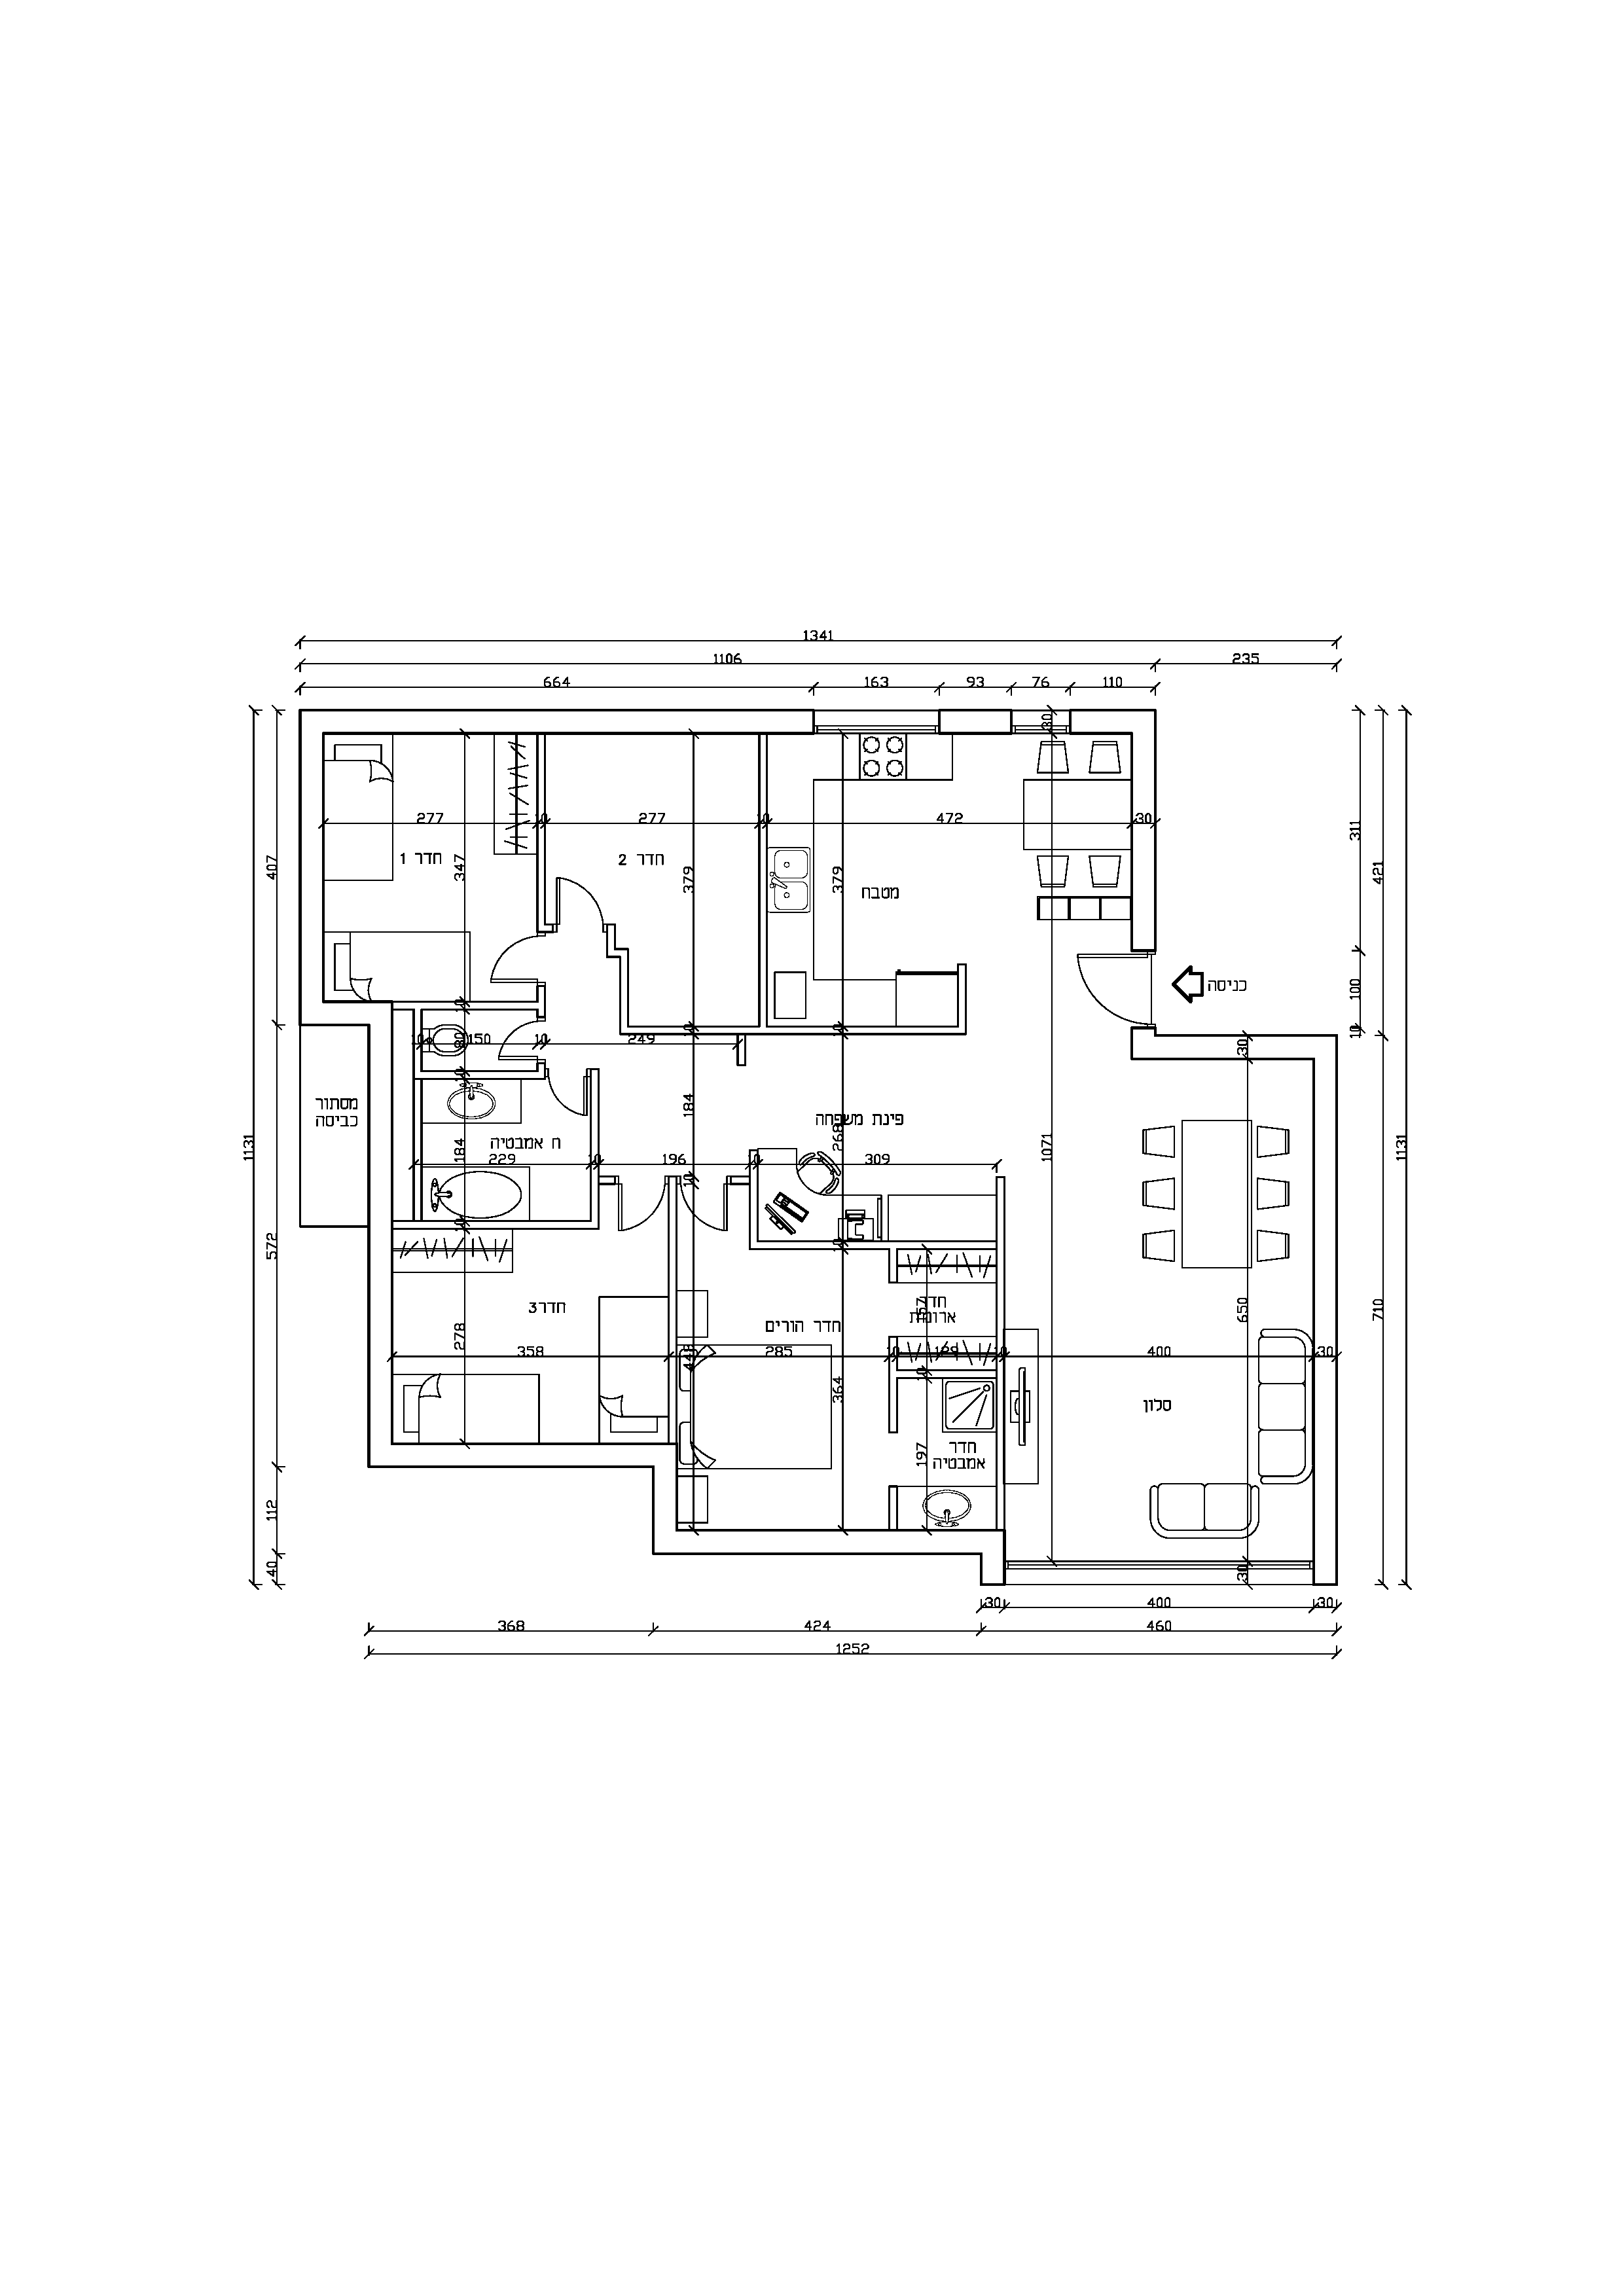door: (1074, 956, 1149, 1024), (605, 1179, 664, 1233), (552, 871, 605, 926), (485, 935, 538, 986)
window: (814, 722, 942, 736)
